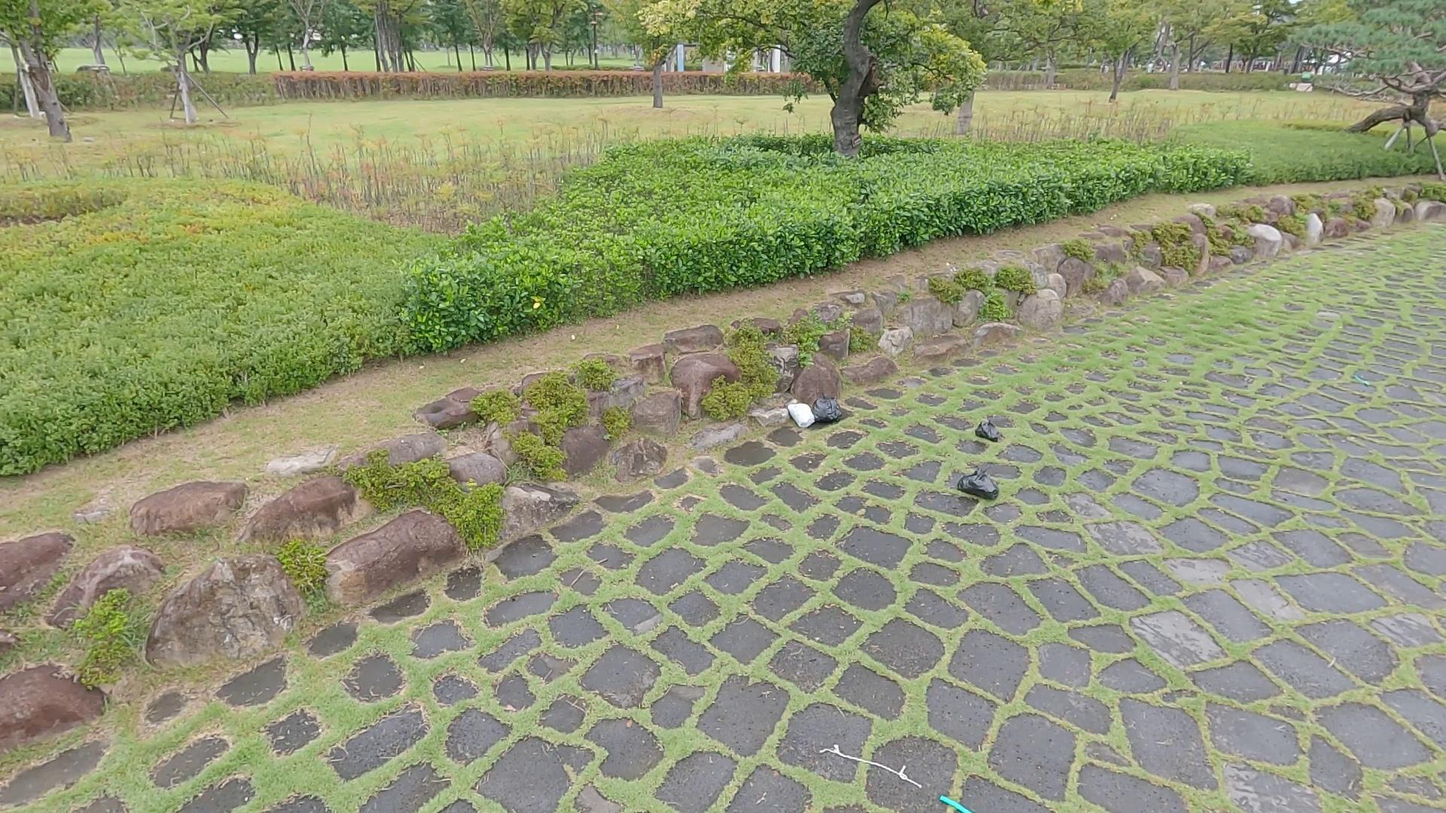trash: (952, 462, 1003, 509), (811, 390, 846, 426), (786, 397, 817, 429), (972, 417, 1003, 446)
